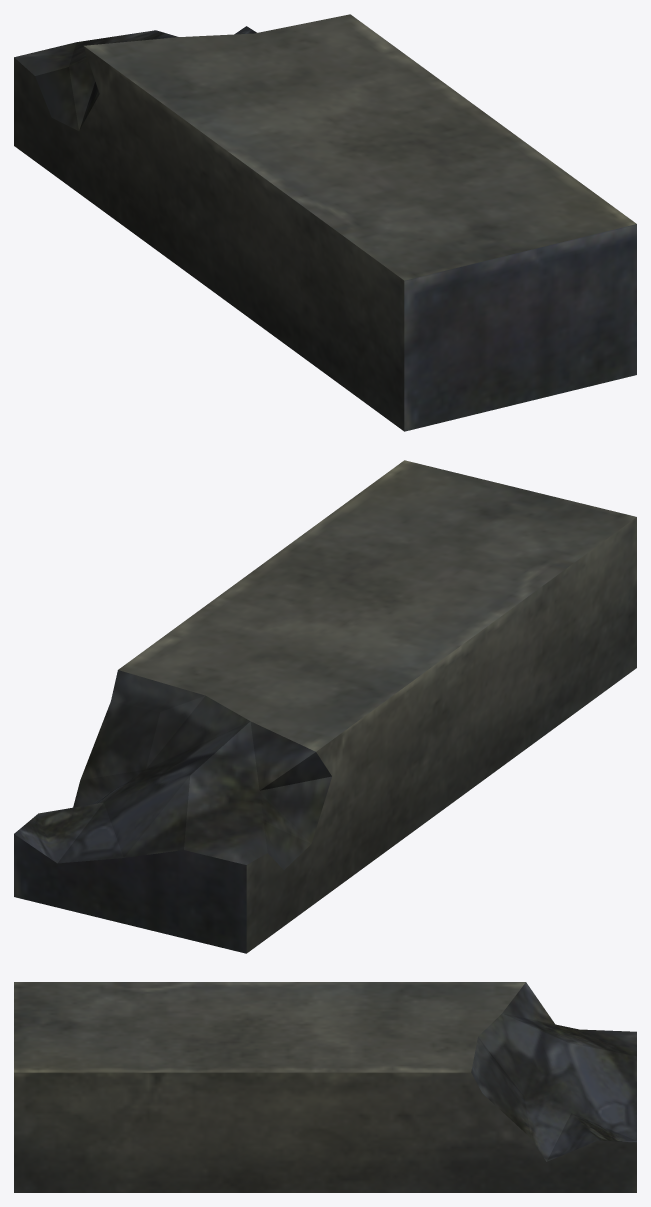
The model's file is C_taijie003.fbx.
The picture shows the model from 3 angles, top to bottom: view 1: azimuth 30°, elevation 25°; view 2: azimuth 150°, elevation 25°; view 3: azimuth 270°, elevation 25°; orthographic projection. The views are drawn at different scales.
Visible parts, largest first — view 1: C_taijie003; view 2: C_taijie003; view 3: C_taijie003.
Part boxes in pixels (box(x1,y1,x2,y2)): C_taijie003: box(14, 14, 636, 431); C_taijie003: box(14, 460, 636, 953); C_taijie003: box(14, 982, 636, 1192).
Size of the model in its own units: 36.67 by 22.76 by 107.
